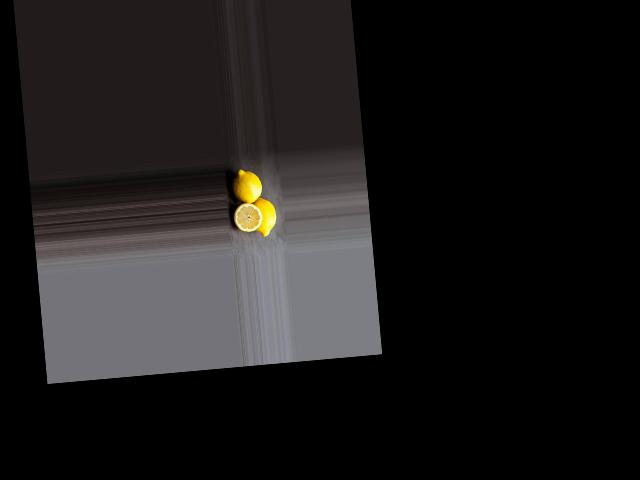lemon: (250, 195, 281, 239)
